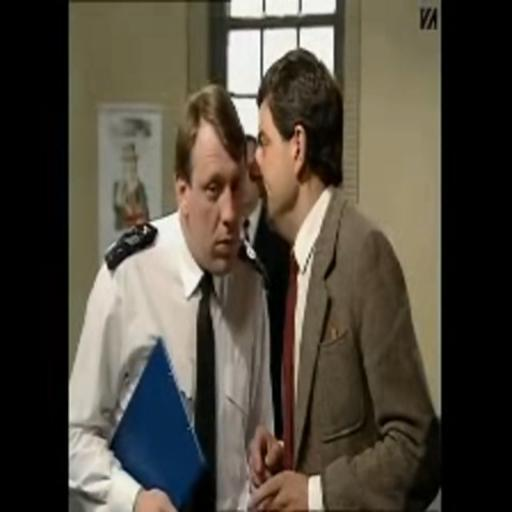nao-violencia: (68, 38, 443, 512)
